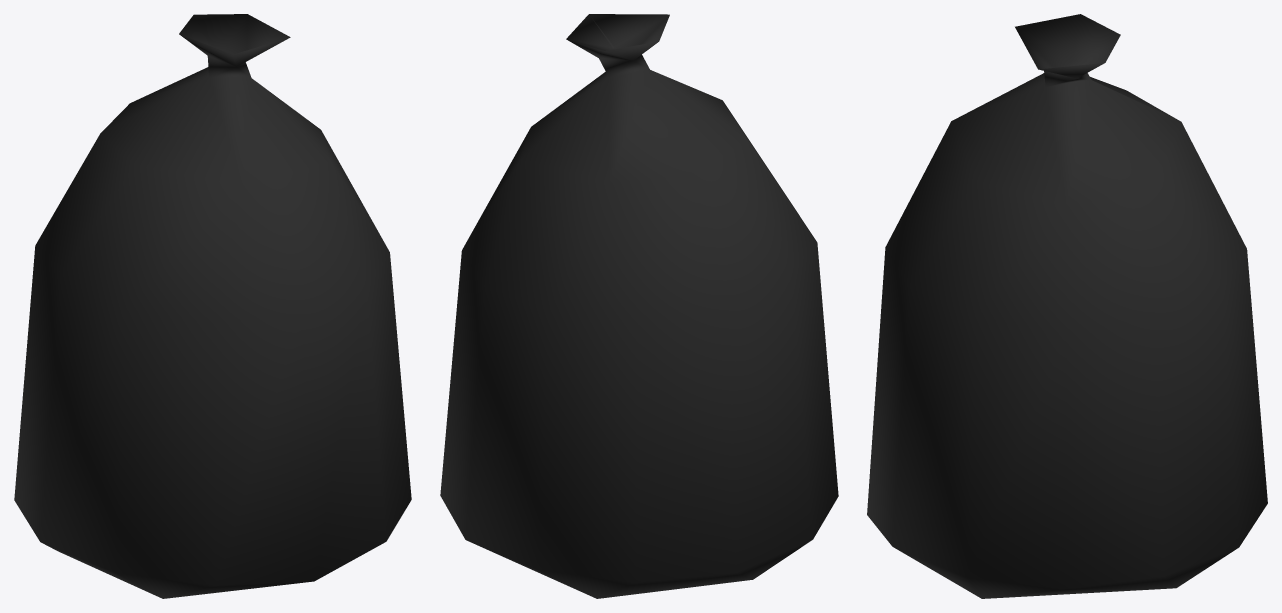
Rendered from SM_Props_Garbage_03.fbx.
3 renders of one model, left to right at view 1: azimuth 30°, elevation 25°; view 2: azimuth 150°, elevation 25°; view 3: azimuth 270°, elevation 25°, orthographic.
Parts seen in each view (by area): view 1: SM_Props_Garbage_03; view 2: SM_Props_Garbage_03; view 3: SM_Props_Garbage_03.
Boxes of the visible parts, left/top/right/bottom form: SM_Props_Garbage_03: left=14, top=14, right=411, bottom=598; SM_Props_Garbage_03: left=440, top=14, right=838, bottom=598; SM_Props_Garbage_03: left=867, top=14, right=1267, bottom=598.
Size of the model in its own units: 0.4548 by 0.6339 by 0.4515.
